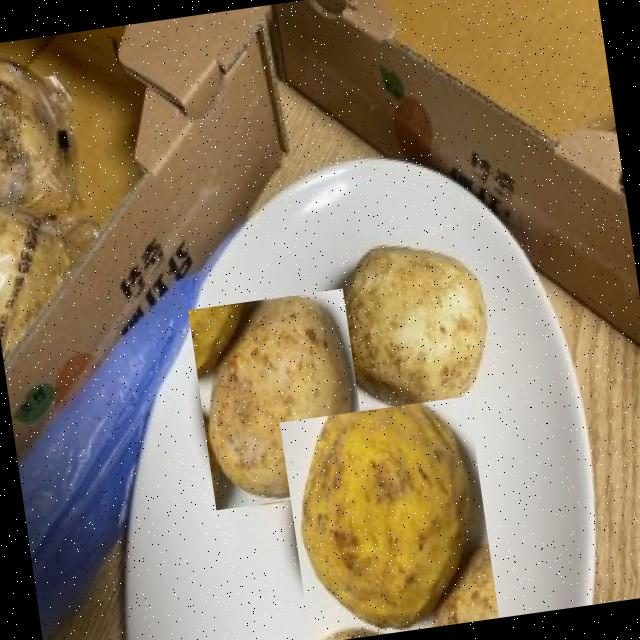Potato: (279, 395, 498, 640), (187, 288, 370, 510), (322, 230, 503, 428)
